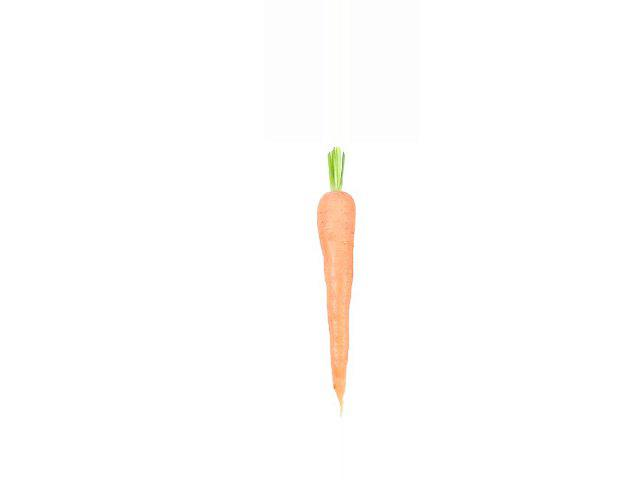carrot: (308, 184, 362, 414)
